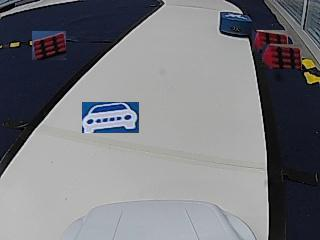prop: (219, 11, 252, 37)
